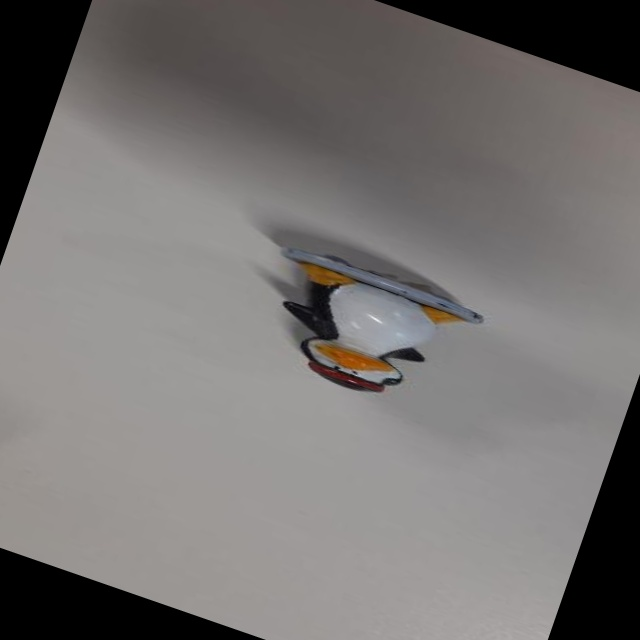Penguin: (211, 215, 517, 468)
